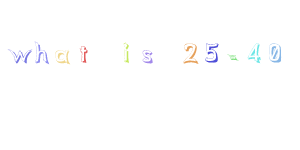-: (227, 48, 242, 70)
0: (265, 41, 289, 68)
2: (178, 39, 199, 68)
4: (245, 39, 264, 68)
5: (202, 40, 224, 67)
a: (53, 44, 72, 68)
h: (32, 38, 51, 67)
i: (117, 35, 137, 73)
s: (138, 45, 156, 67)
t: (75, 43, 97, 70)
w: (7, 40, 31, 70)
